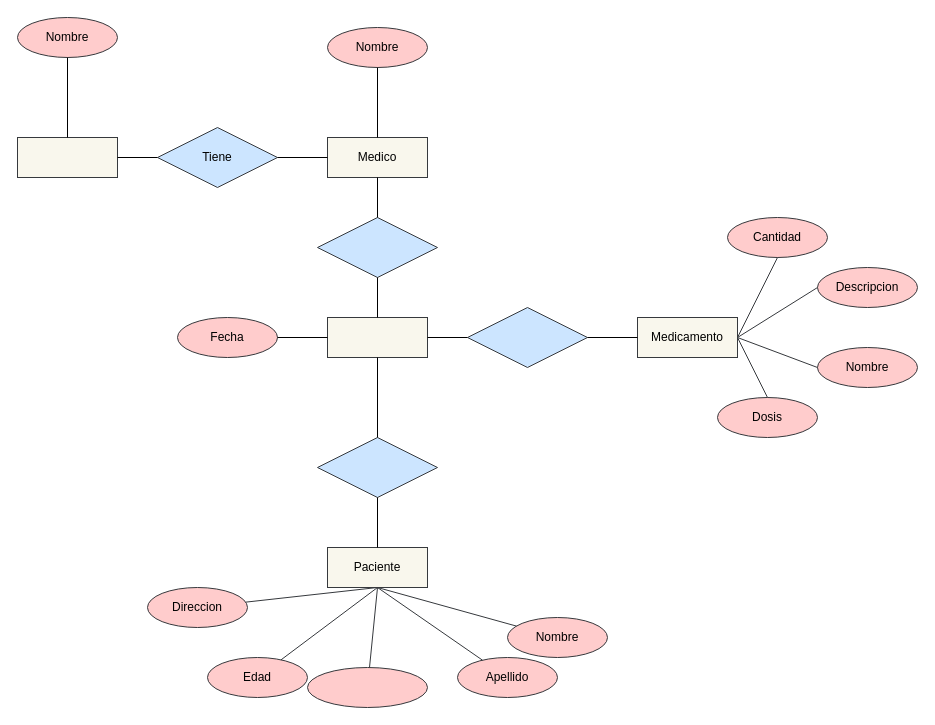
Some shapes in this 935 by 725 pixel diagram are drawn without their labels. Here are the shapes that lost their labels. From the top down, the centre of each, then its label:
pixel 67 157: Especialidad
pixel 377 247: Realizo
pixel 377 337: Consulta
pixel 527 337: Recetar
pixel 377 467: Recibir
pixel 367 687: Num_Identificacion
